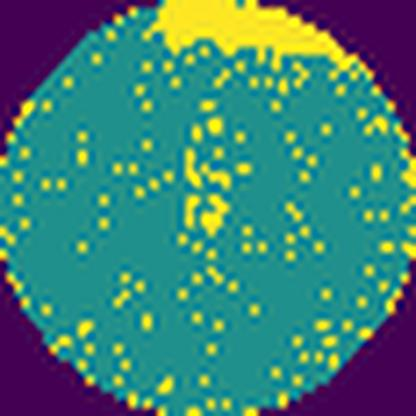Edge-Loc: (146, 0, 359, 74)
